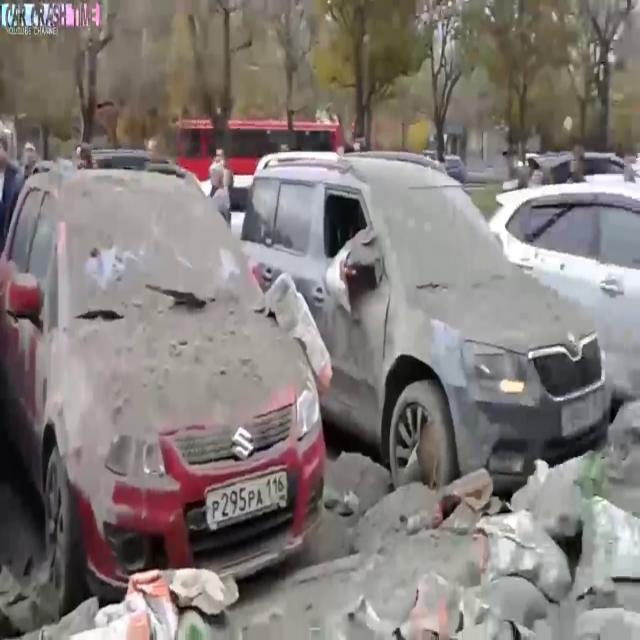Accident: (270, 49, 592, 478), (22, 124, 336, 538)
